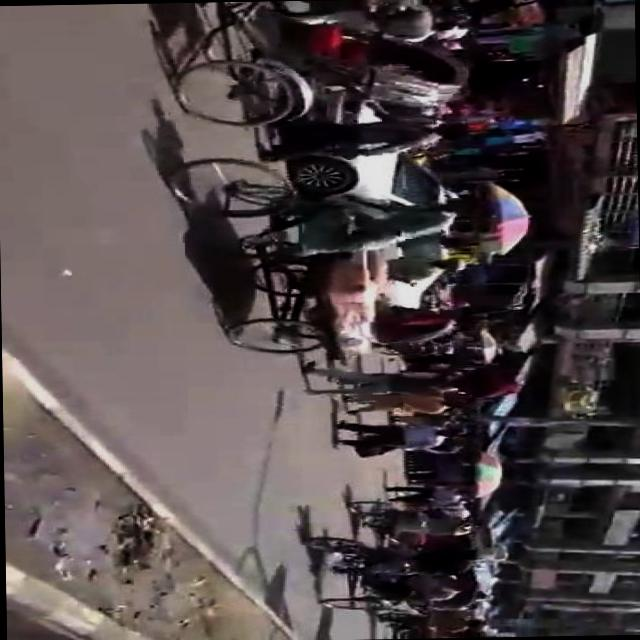car: (286, 94, 456, 312)
motorcycle: (162, 149, 428, 384), (156, 0, 472, 131), (297, 532, 483, 616), (343, 495, 498, 564), (370, 612, 491, 638)
